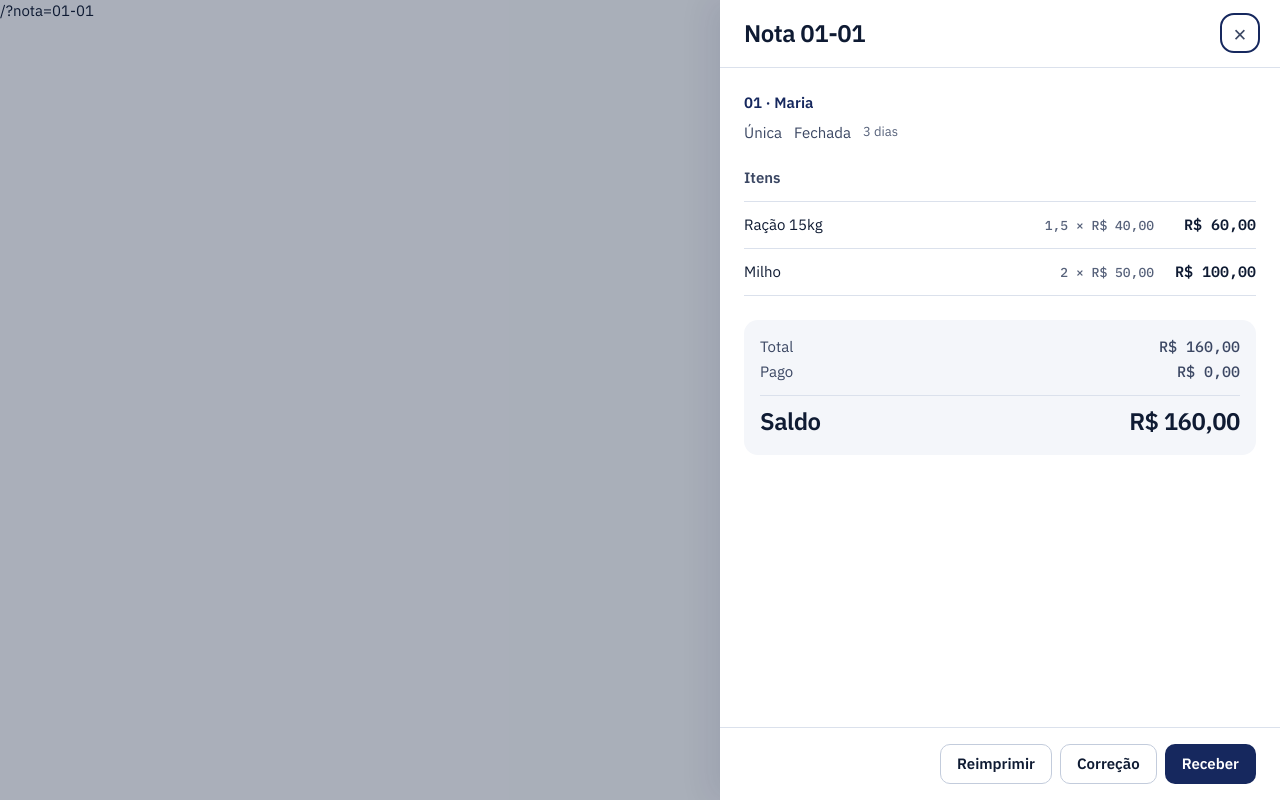
Scenario: Correcao › erro 400 em itens.0.preco_unitario marca o preço da primeira linha e mantém o que foi digitado
Click the button "Correção" at (1108, 764), box [1060,744,1157,784]
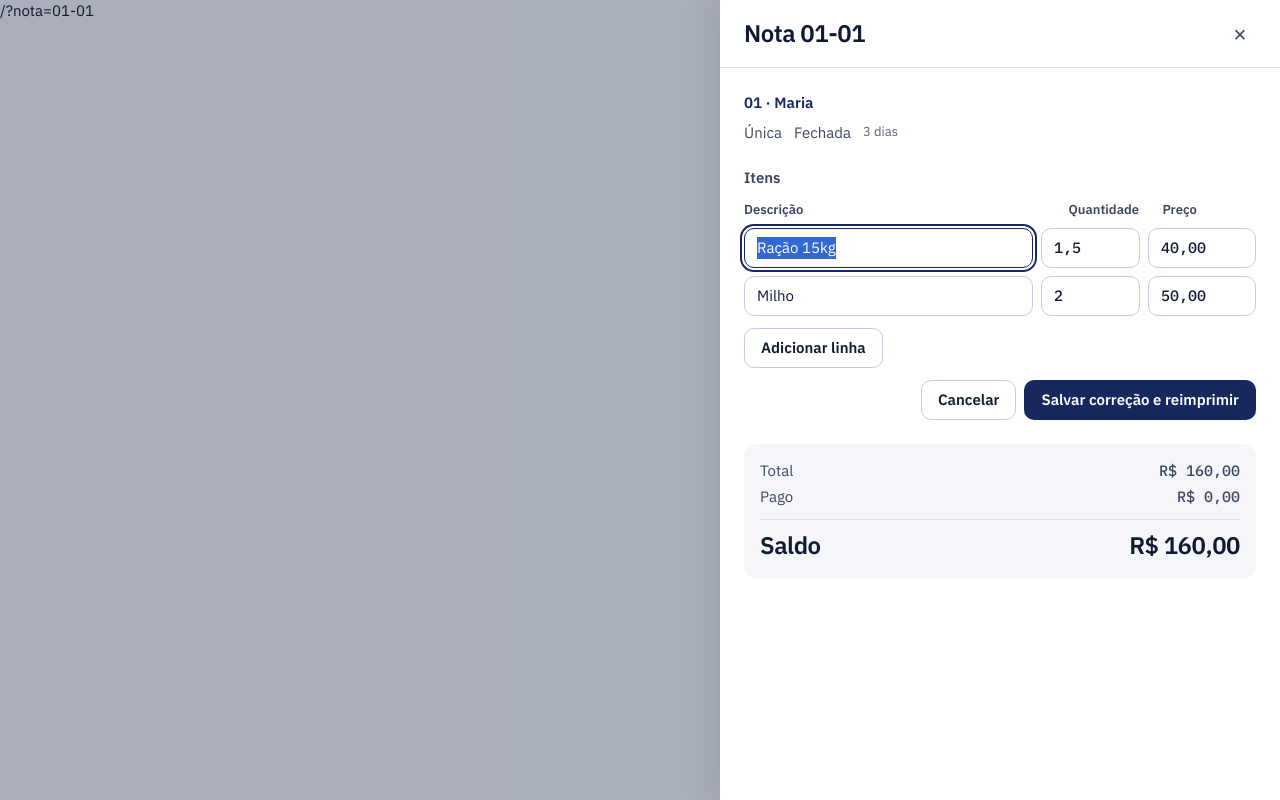
Replace the text in the field named "Descrição do item 2" with "Milho moído" at (888, 296), box [744,276,1033,316]
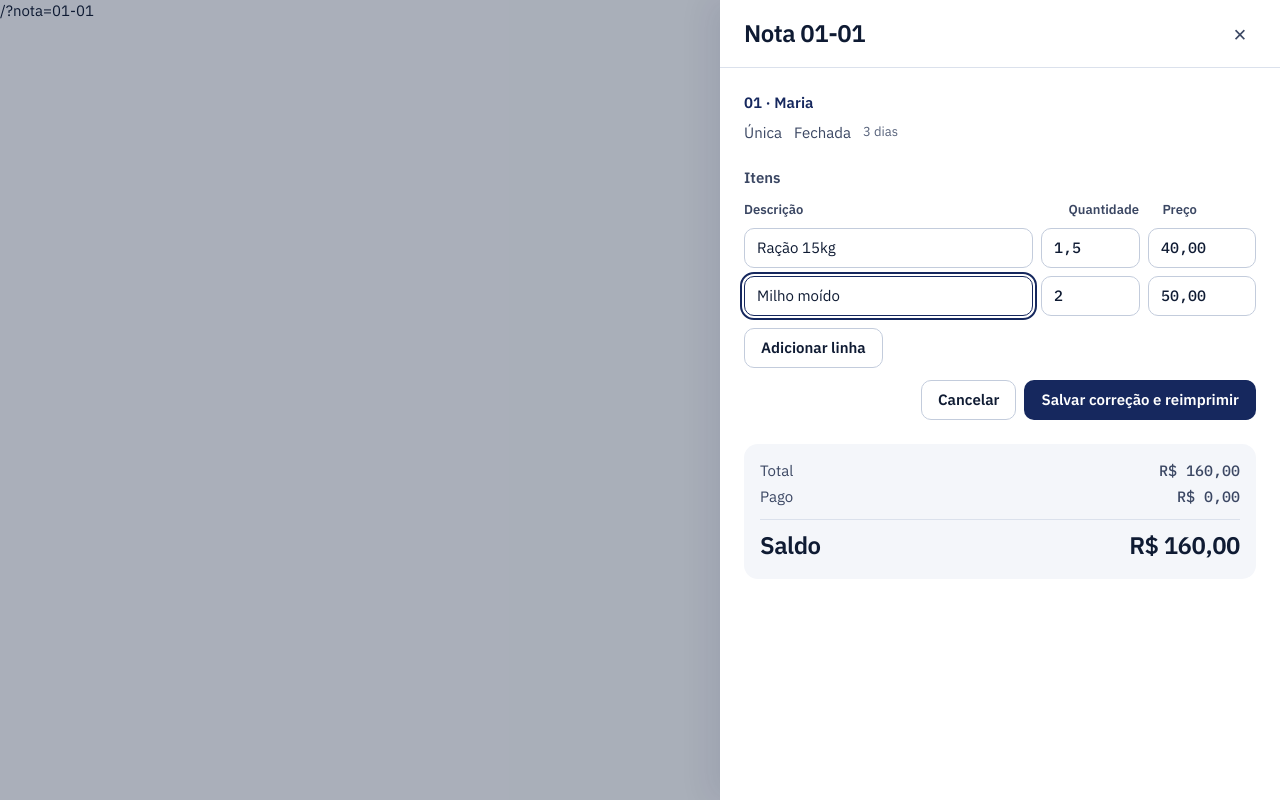
Click the button "Salvar correção e reimprimir" at (1140, 400), box [1024,380,1256,420]
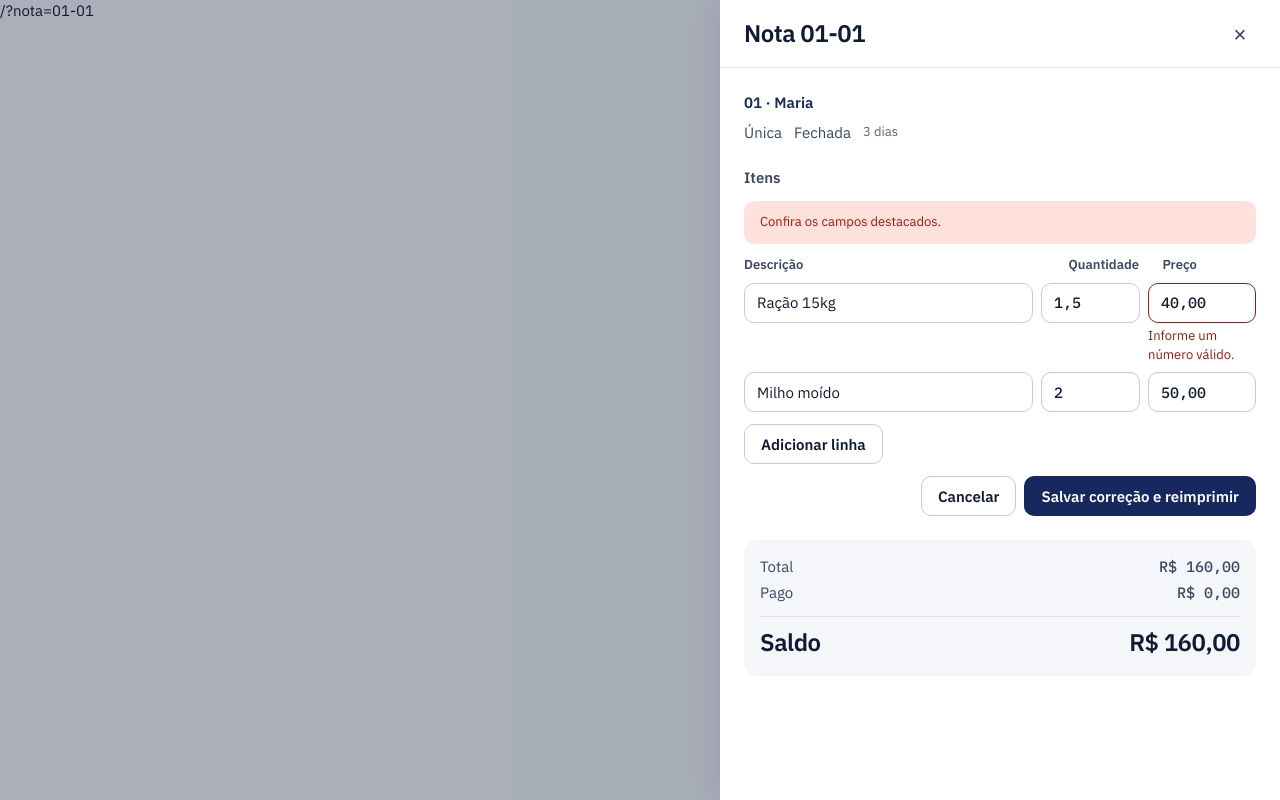
Expected: the button "Salvar correção e reimprimir" is enabled, [1024,476,1256,516]
Expected: the message reads "Confira os campos destacados.", [760,213,941,230]
